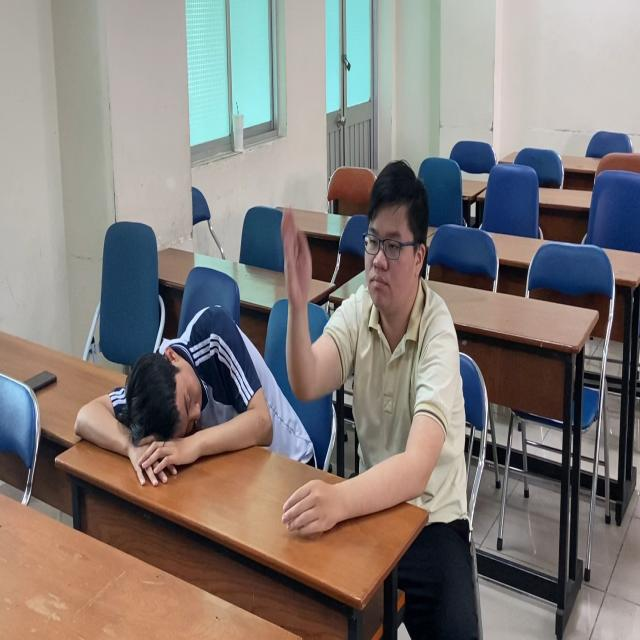raise_hand: (279, 150, 469, 521)
sleep: (67, 303, 284, 500)
